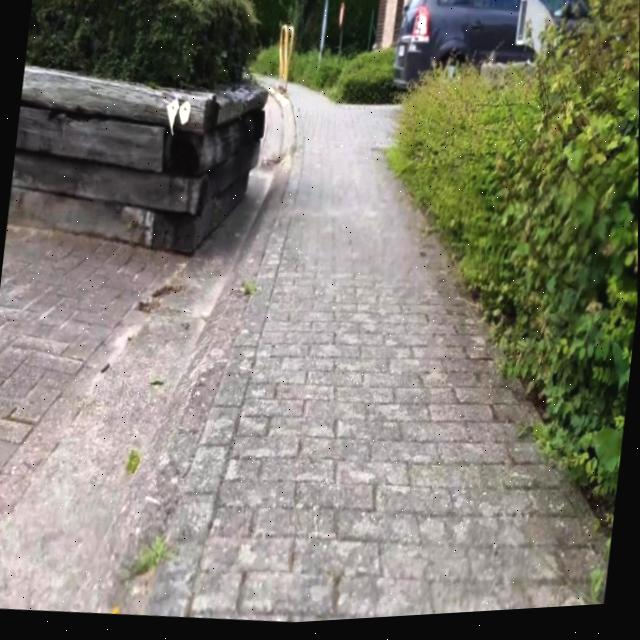Automobile: (393, 0, 586, 91)
Obstacle: (393, 0, 640, 514), (8, 66, 267, 255), (278, 27, 293, 96)
Road: (0, 161, 286, 613)
Sidewalk: (133, 96, 593, 626)
